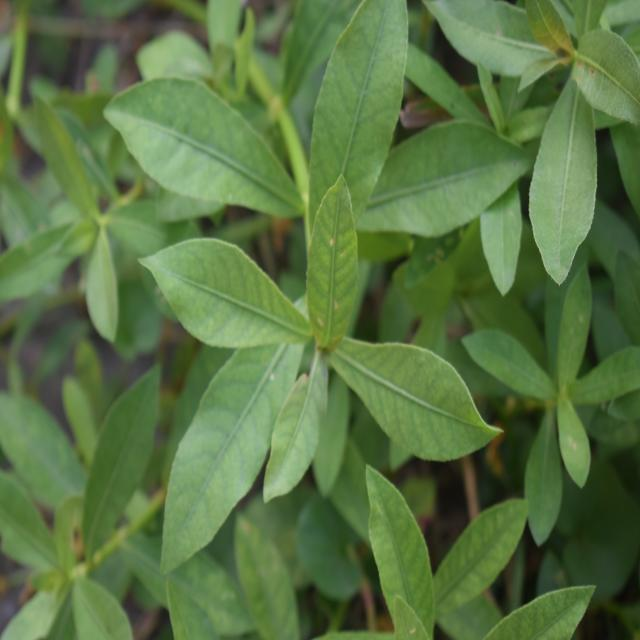Alligatorweed: (127, 24, 470, 544)
